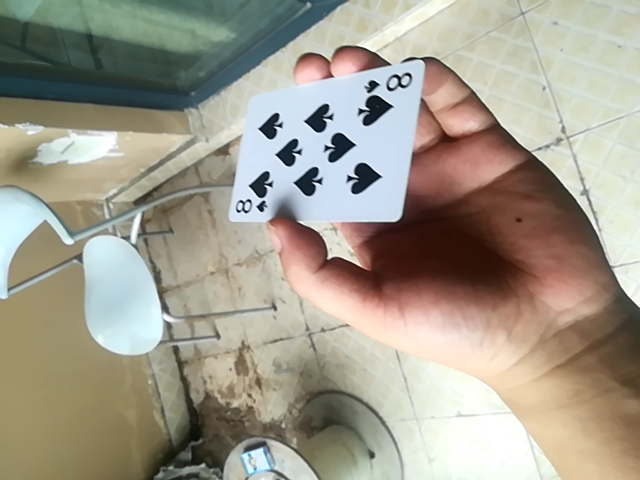ht 8: (226, 60, 421, 229)
